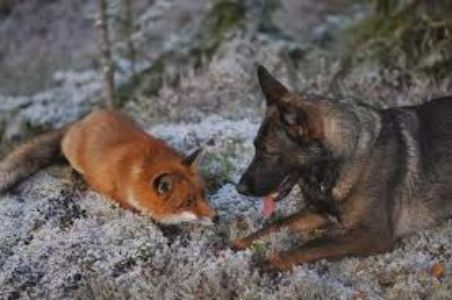fox: (24, 101, 224, 234)
wolf: (238, 59, 451, 271)
